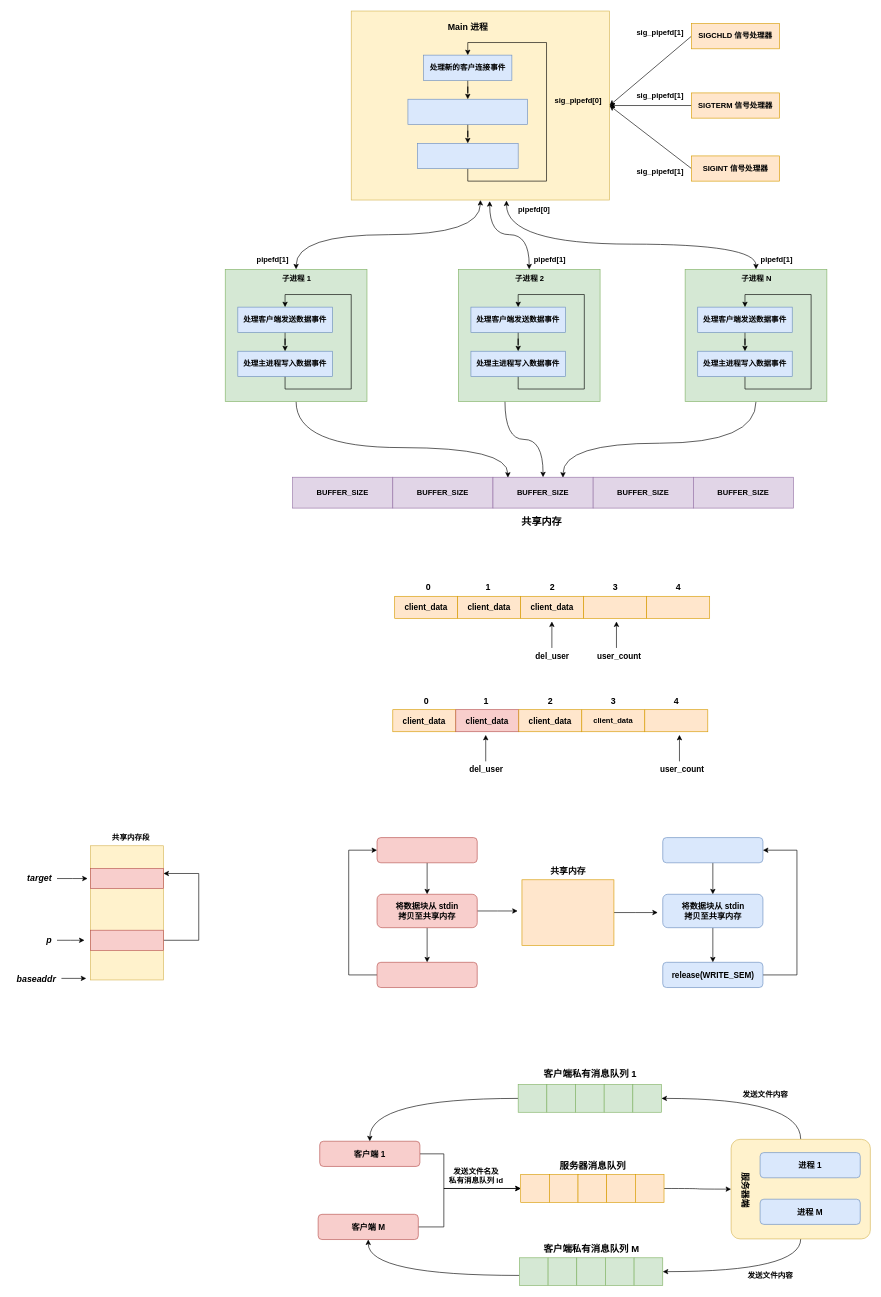
The diagram is 881 pixels wide and 1297 high, and some of its shapes have lost their labels. Each missing label, with the centre of its shape:
"release(READ_SEM)" belongs at (426,975).
"reserve(READ_SEM)" belongs at (712,850).
"reserve(WRITE_SEM)" belongs at (426,850).
"处理信号事件（SIGCHLD/SIGTERM/SIGINT）" belongs at (467,111).
"处理子进程的写入数据事件" belongs at (467,156).
